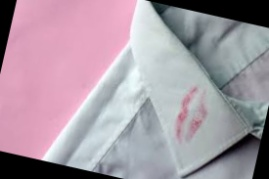lipstick: (168, 81, 210, 147)
